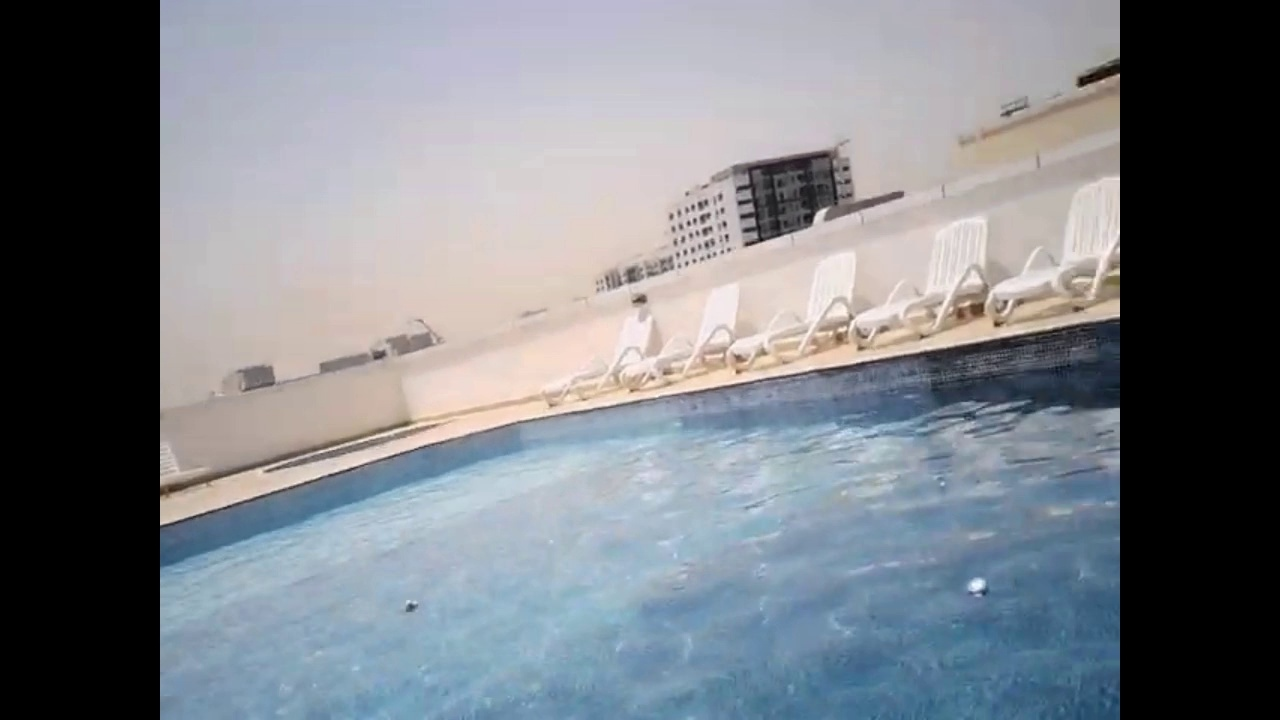debris: (960, 571, 994, 604), (398, 595, 420, 615), (933, 472, 950, 492)
